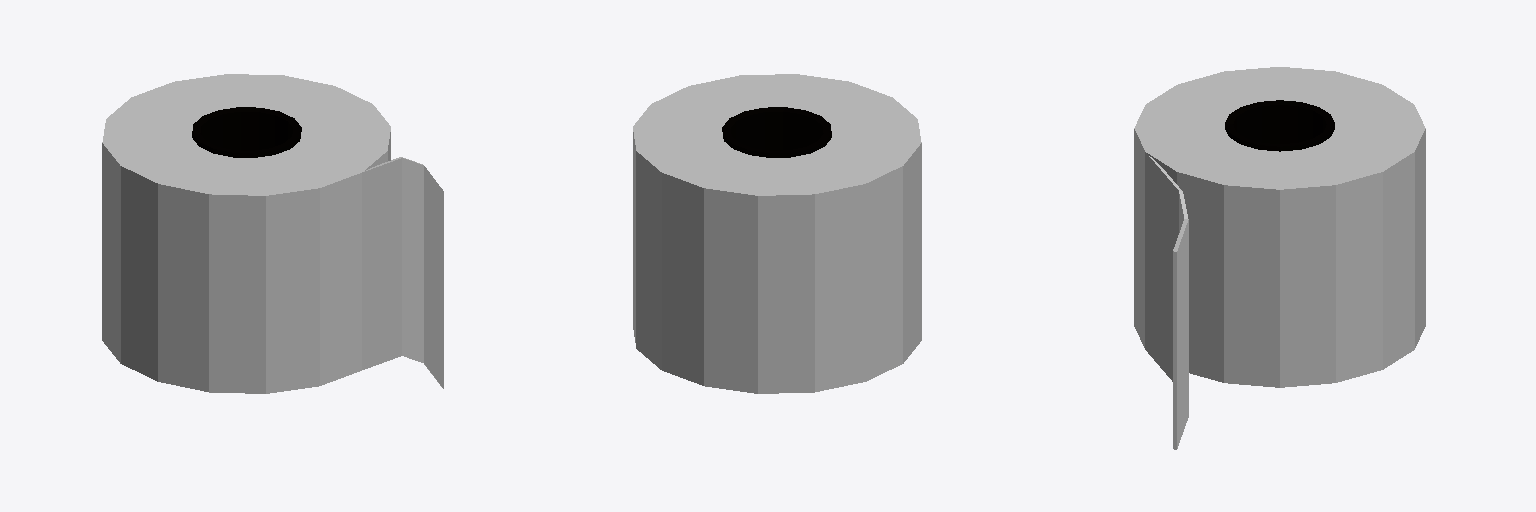
File: ToiletRoll.obj
3 views of the same model, side by side, from view 1: azimuth 30°, elevation 25°; view 2: azimuth 150°, elevation 25°; view 3: azimuth 270°, elevation 25° (orthographic).
Visible parts, largest first — view 1: Cylinder_Cylinder.002; view 2: Cylinder_Cylinder.002; view 3: Cylinder_Cylinder.002.
Part boxes in pixels (x1,y1,x2,y2): Cylinder_Cylinder.002: (102, 74, 443, 393); Cylinder_Cylinder.002: (633, 74, 921, 393); Cylinder_Cylinder.002: (1134, 67, 1425, 449).
Size of the model in its own units: 0.6006 by 0.5431 by 0.56.